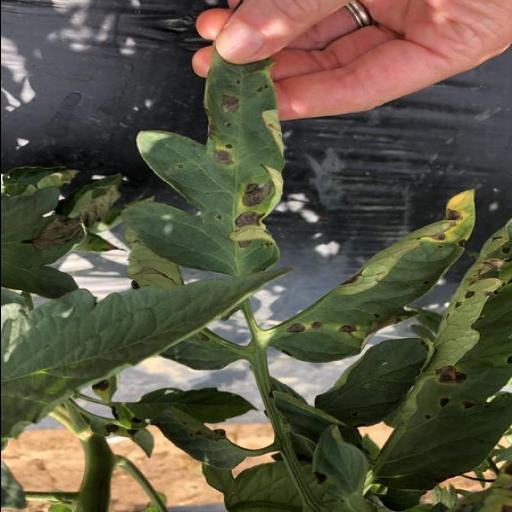disease_tomato: (124, 52, 290, 278), (274, 190, 478, 364)
